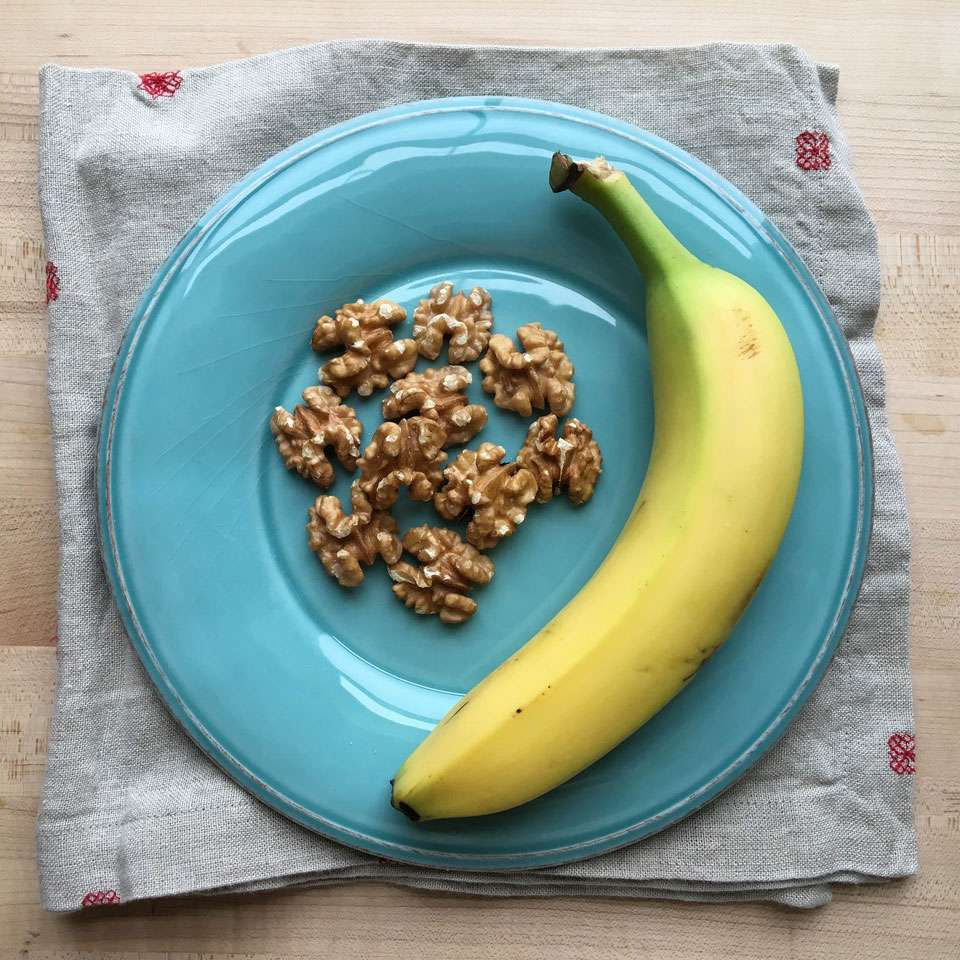banana: (418, 141, 817, 848)
